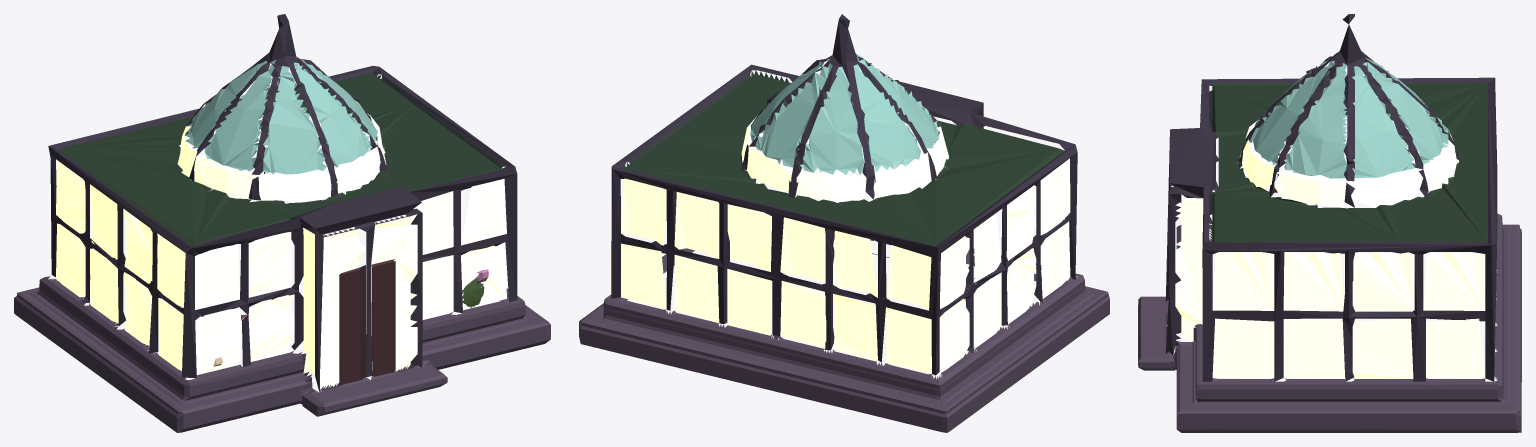
The model's file is conservatory.glb.
The picture shows the model from 3 angles, left to right: view 1: azimuth 30°, elevation 25°; view 2: azimuth 150°, elevation 25°; view 3: azimuth 270°, elevation 25°; orthographic projection. The views are drawn at different scales.
Parts seen in each view (by area): view 1: conservatory; view 2: conservatory; view 3: conservatory.
Boxes of the visible parts, left/top/right/bottom form: conservatory: left=14, top=14, right=550, bottom=432; conservatory: left=579, top=14, right=1109, bottom=432; conservatory: left=1138, top=14, right=1521, bottom=432.
Size of the model in its own units: 7 by 5.66 by 6.
